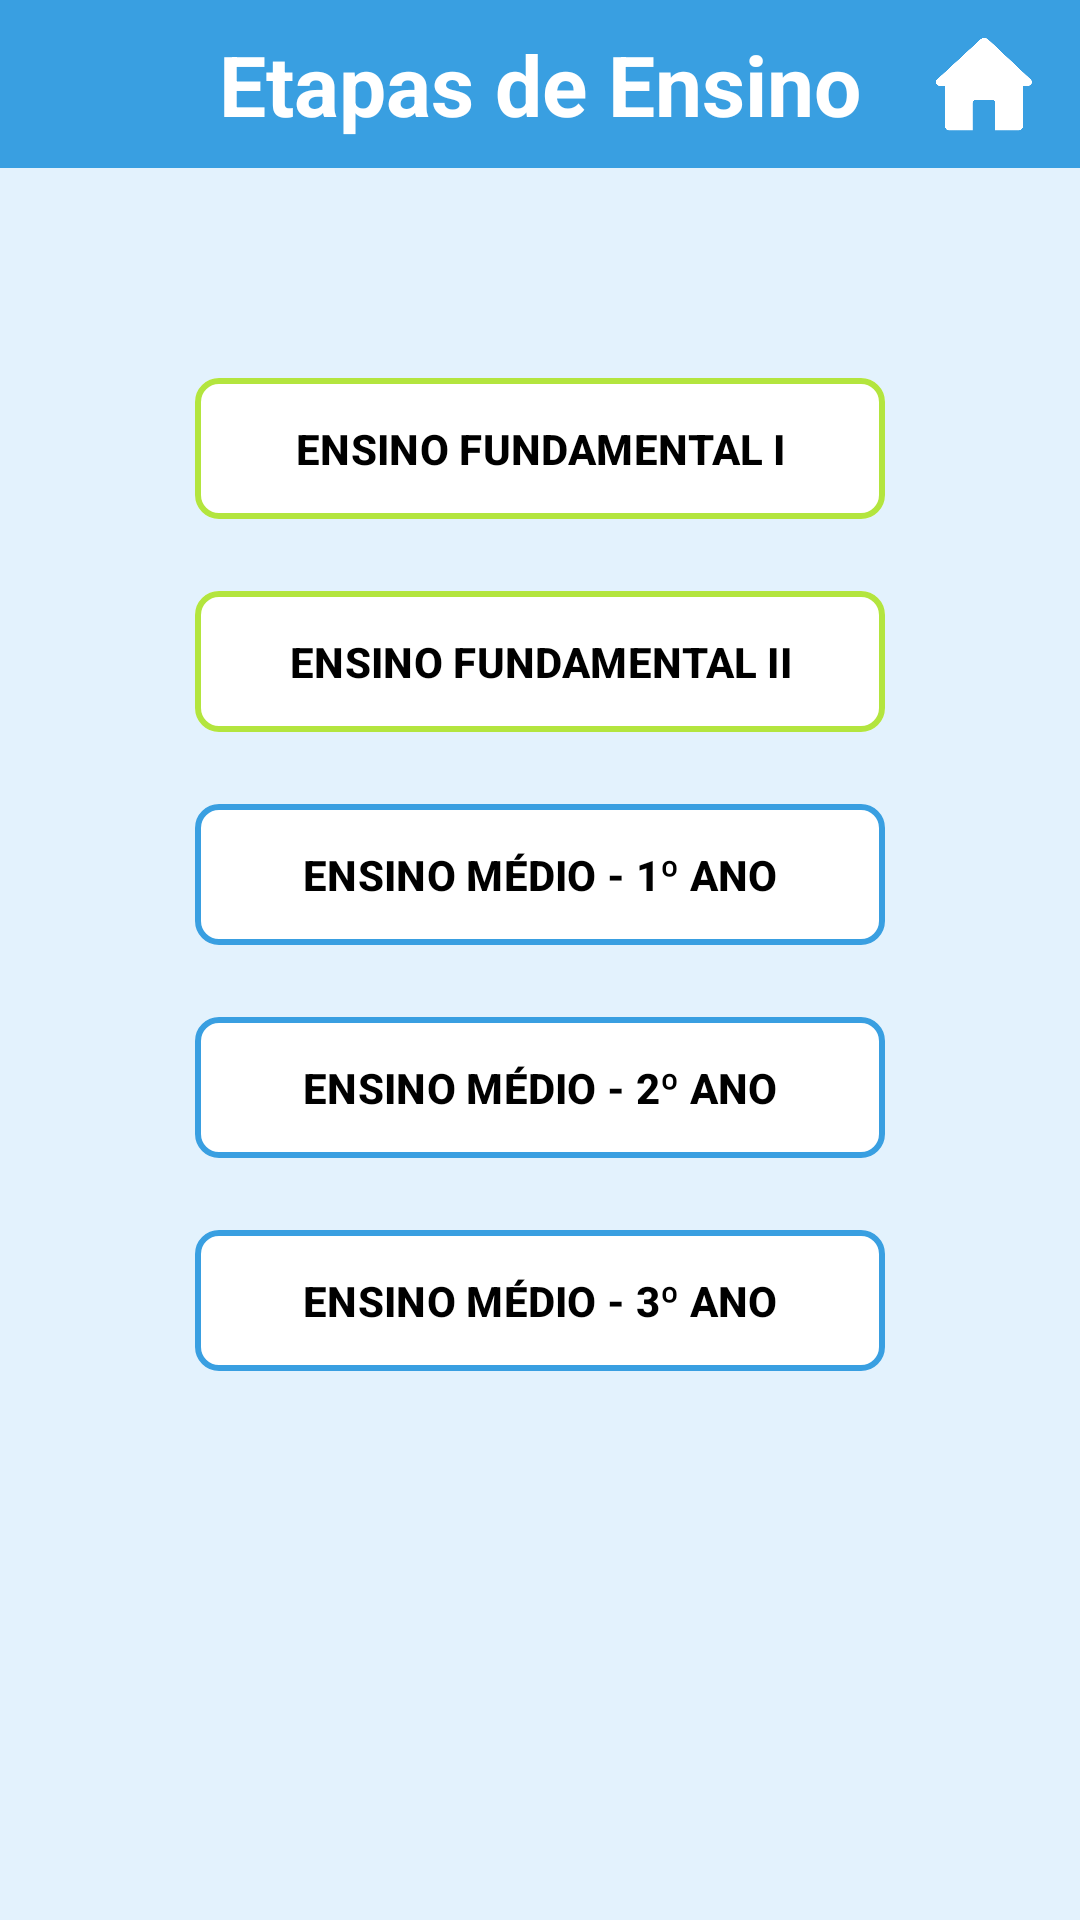

Icons on this 1080px×1920px Android screen, each with its box as (x1, y1, x2, y2):
Home: (936, 38, 1032, 131)
